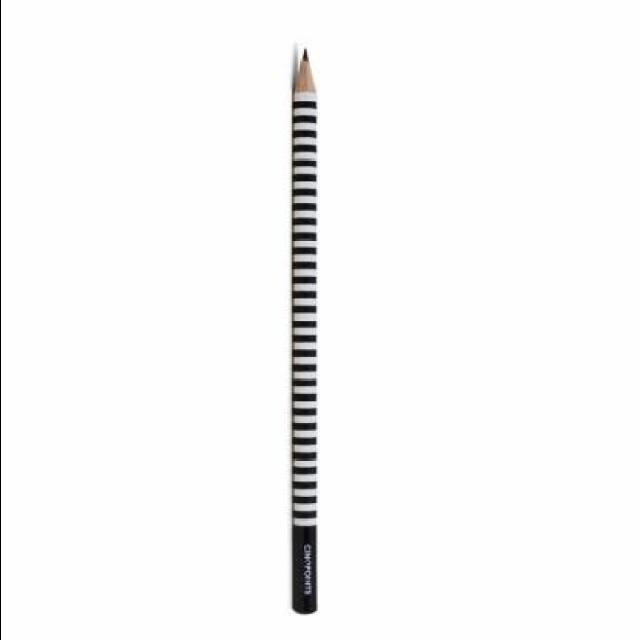Pencil: (283, 40, 326, 114)
